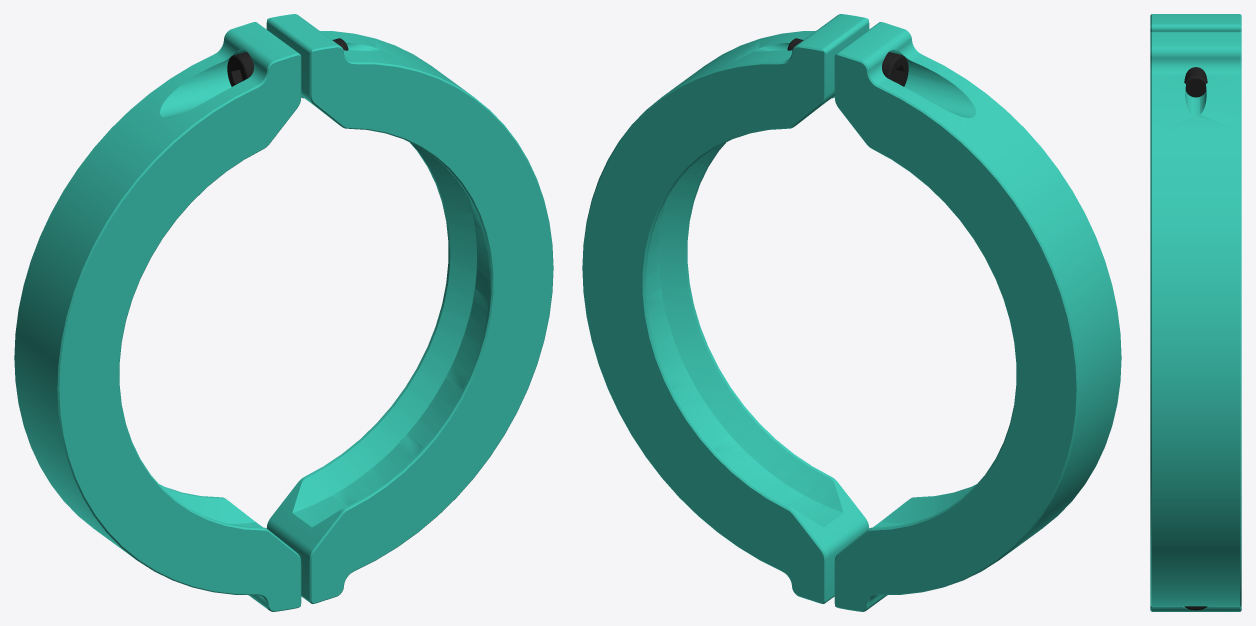
3 renders of one model, left to right at view 1: azimuth 30°, elevation 25°; view 2: azimuth 150°, elevation 25°; view 3: azimuth 270°, elevation 25°, orthographic. The views are drawn at different scales.
Parts seen in each view (by area): view 1: C116.001; view 2: C116.001; view 3: C116.001.
Boxes of the visible parts, x1,y1,x2,y2 form: C116.001: [14, 14, 553, 611]; C116.001: [582, 14, 1121, 611]; C116.001: [1150, 14, 1241, 611].
Bounding box in the file's own units: 0.116 × 0.1239 × 0.018.
